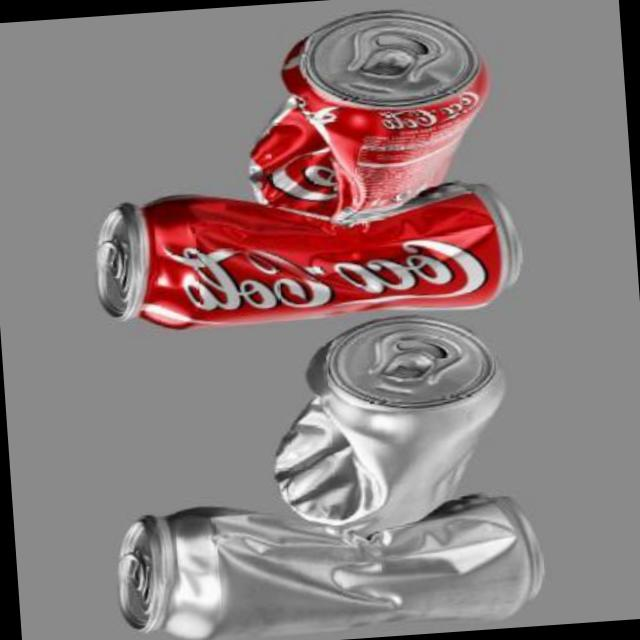metal: (94, 181, 518, 324), (115, 494, 539, 636), (274, 313, 503, 535), (249, 8, 484, 219)
